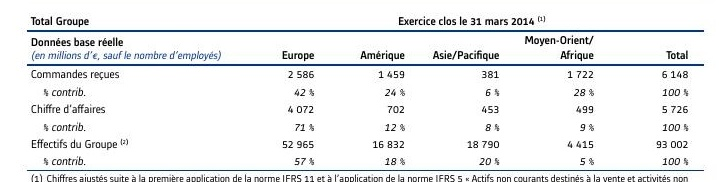table: (0, 0, 719, 182)
